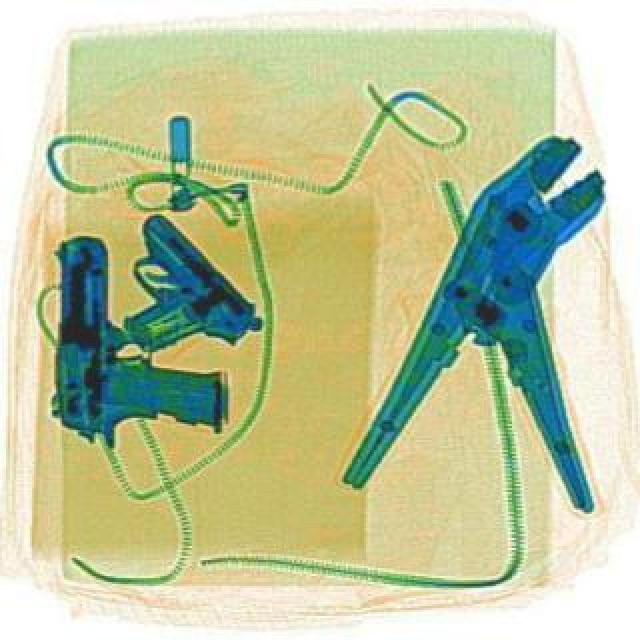gun: (48, 232, 220, 428), (80, 204, 262, 376)
